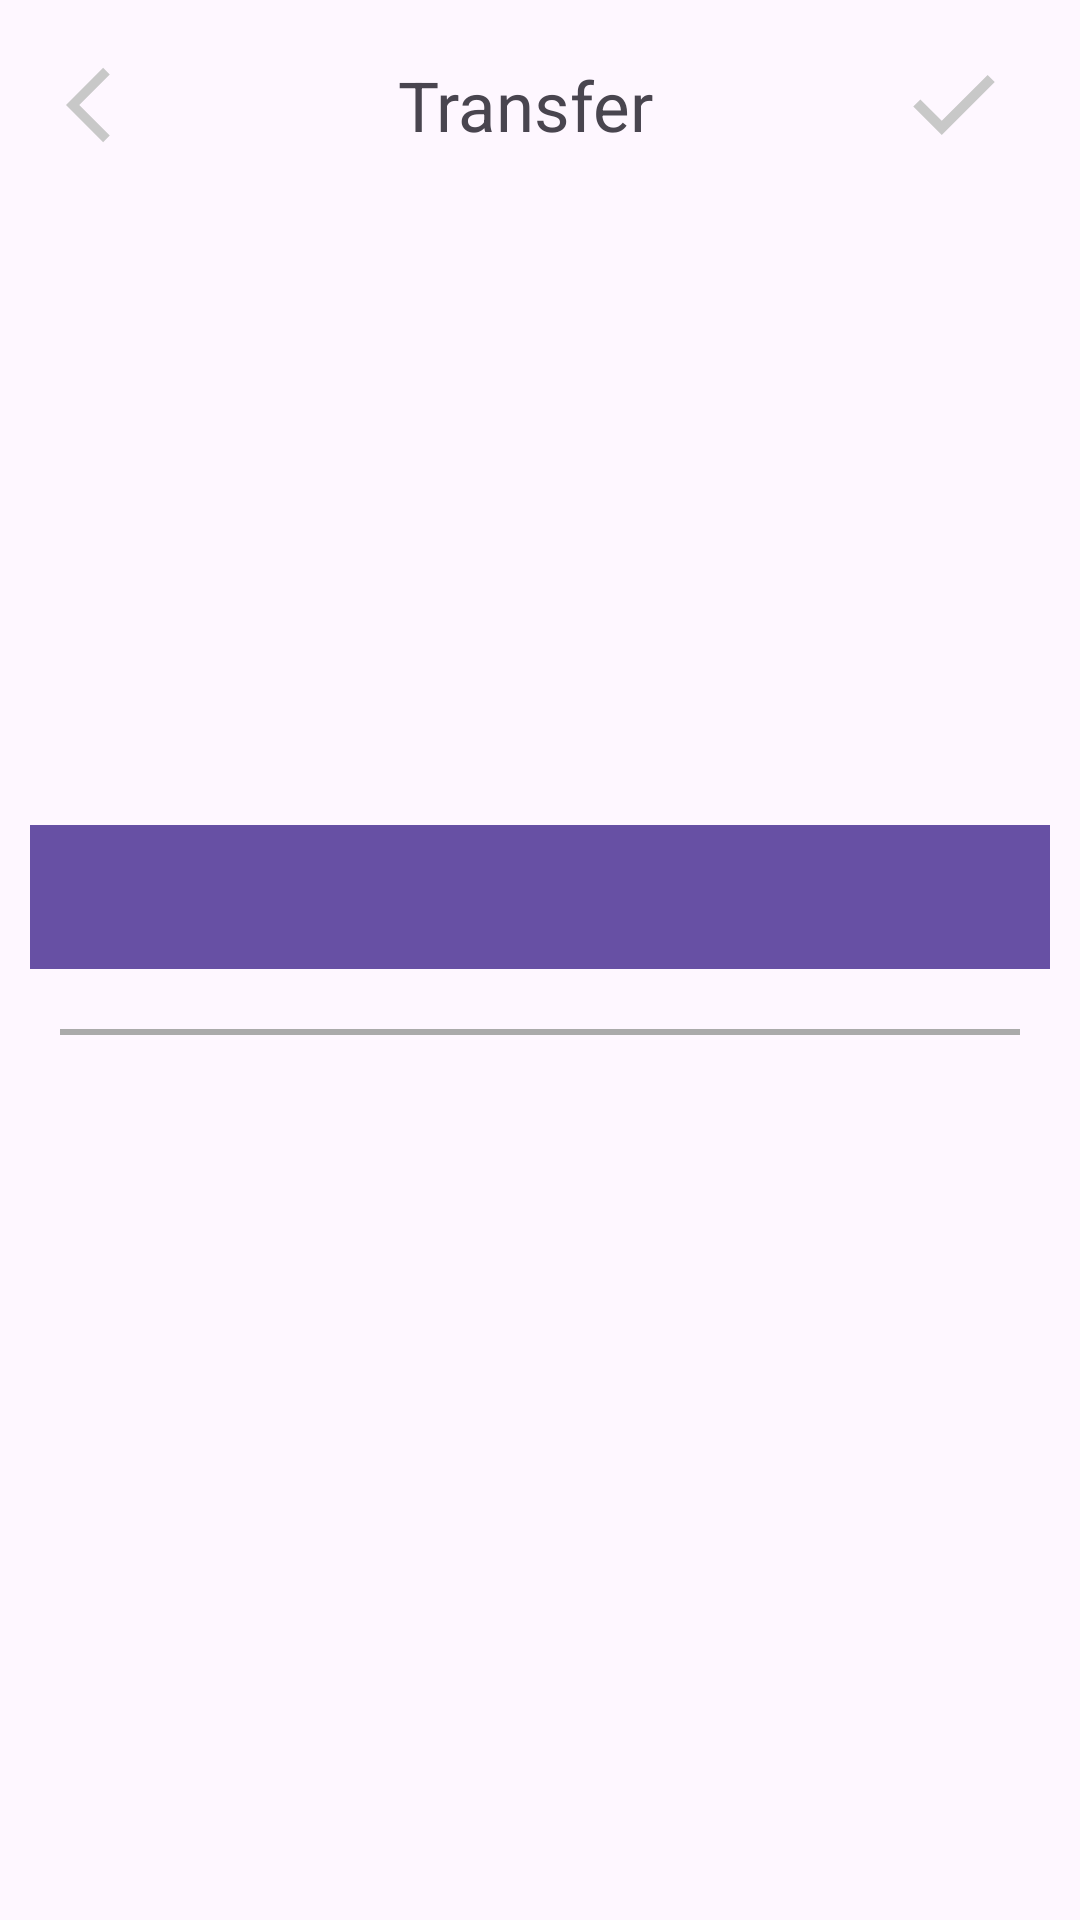

Screen size 1080px×1920px. Icon name, then its center in pixels as (x=x, y=y):
arrow back: (x=88, y=105)
